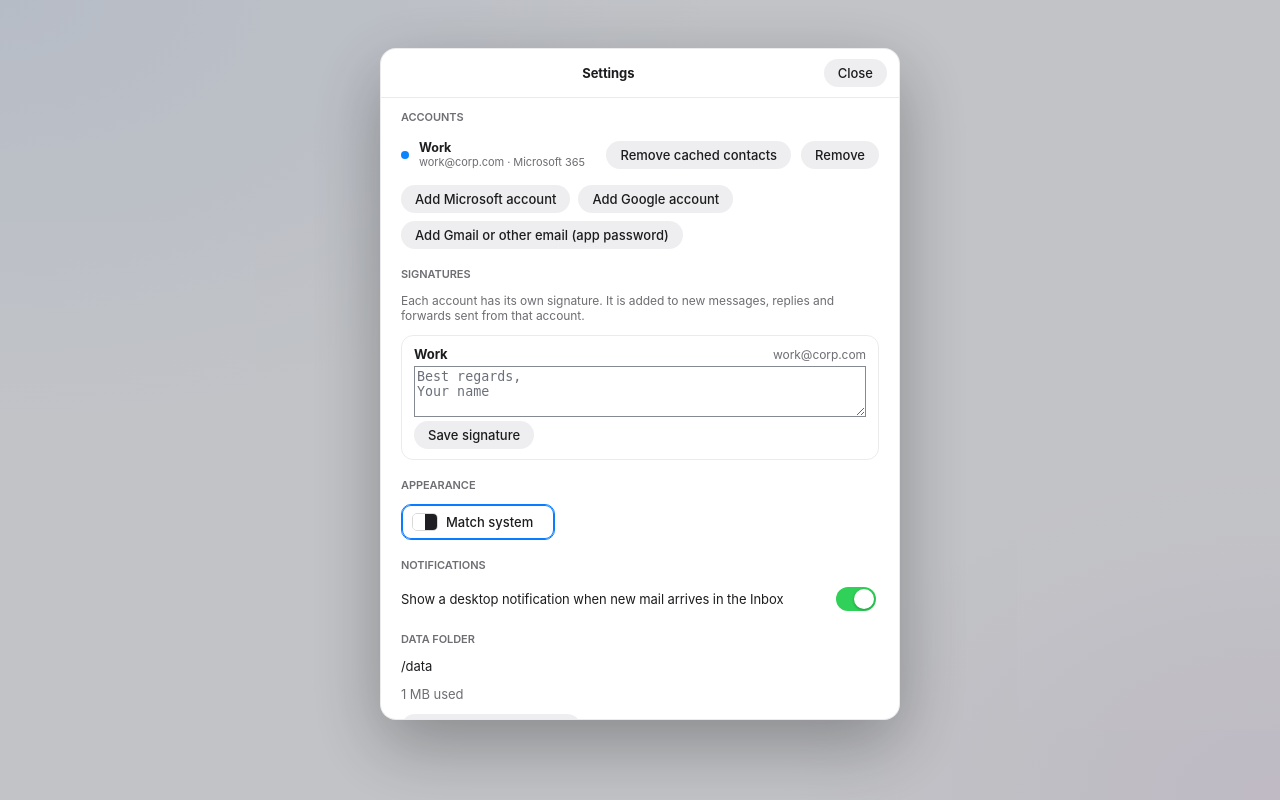
Test case: Settings → Accounts › keeps the app-password button usable while a Google sign-in waits, and Cancel gets out
Click the button "Add Google account" at (656, 199), box x1=578 y1=185 x2=733 y2=213
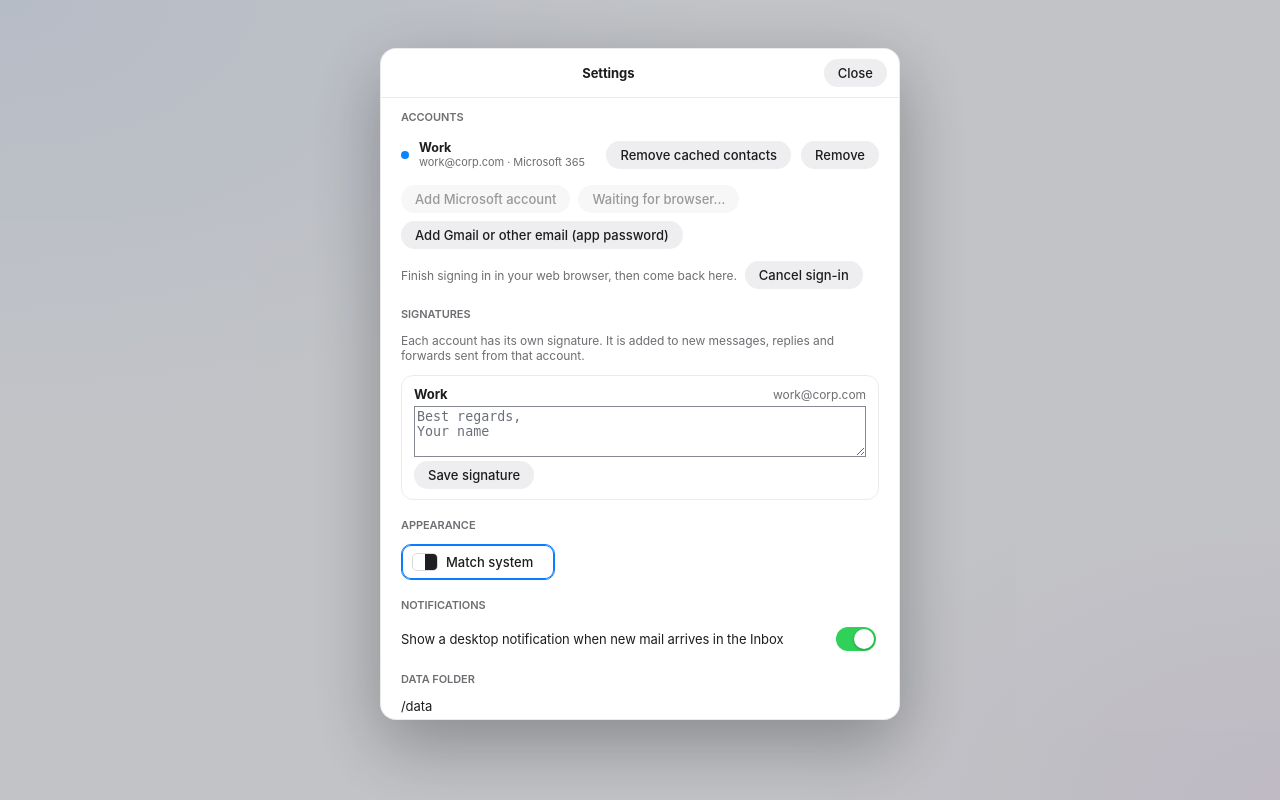
Click the button "Add Gmail or other email (app password)" at (542, 235), box x1=401 y1=221 x2=683 y2=249
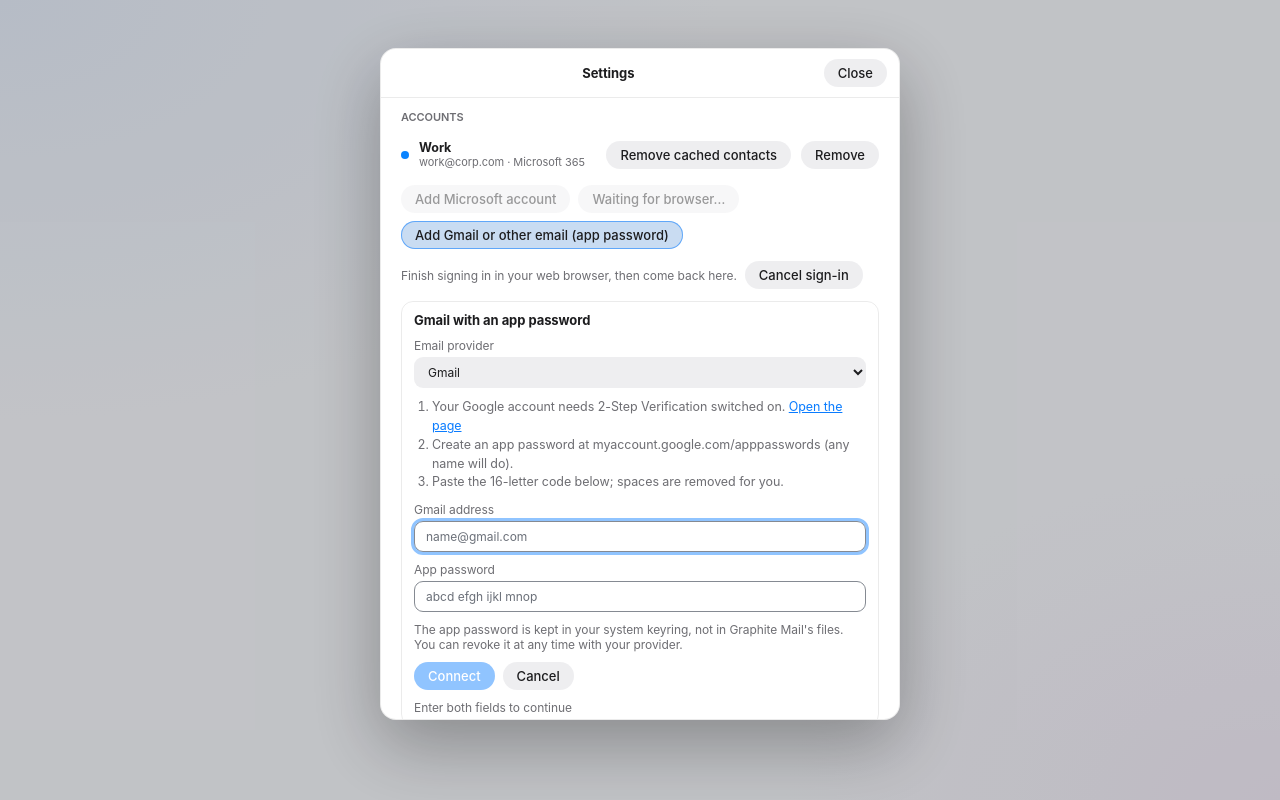
Now the form named "Email with an app password" is shown, box x1=414 y1=312 x2=866 y2=715
Click the button "Cancel sign-in" at (804, 275), box x1=745 y1=261 x2=863 y2=289
(page scrolled)
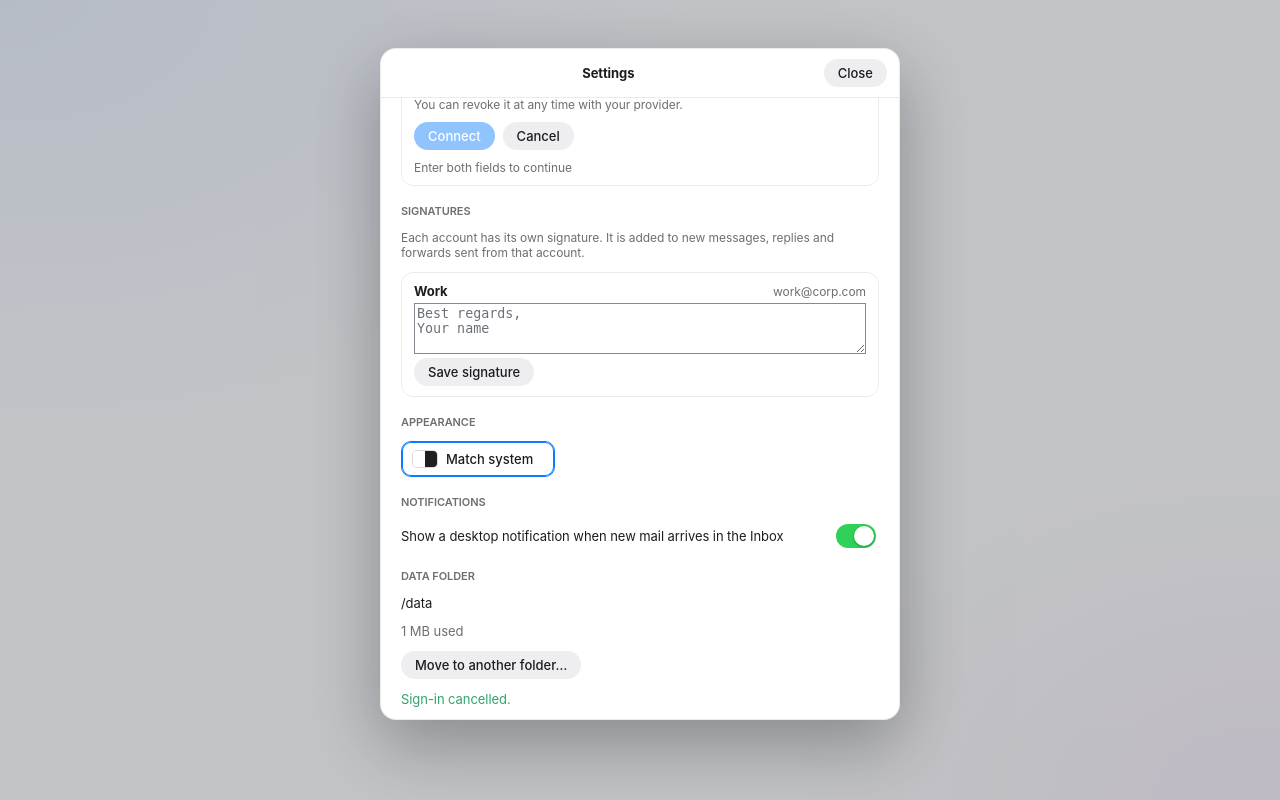
Now the text "Sign-in cancelled." is shown, box x1=401 y1=691 x2=511 y2=707
Now the button "Waiting for browser…" is gone
